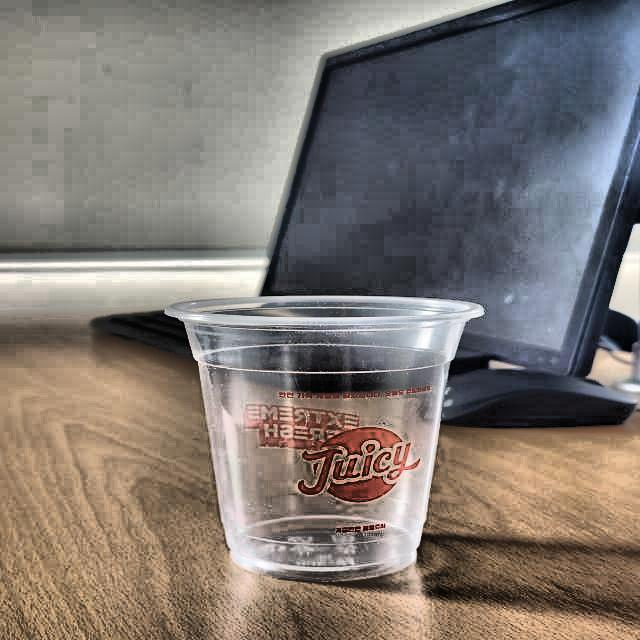plastic cup: (160, 296, 486, 579)
